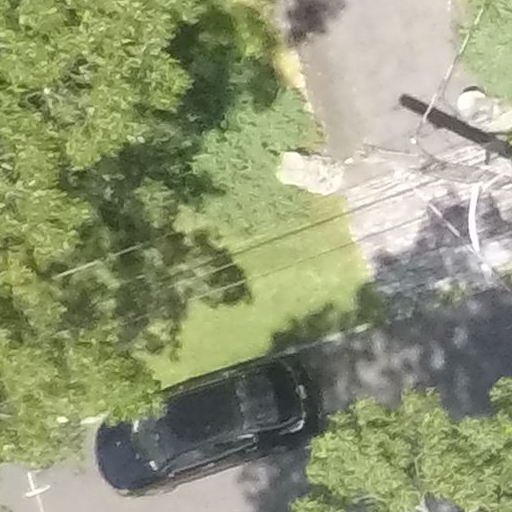car: (83, 340, 323, 503)
